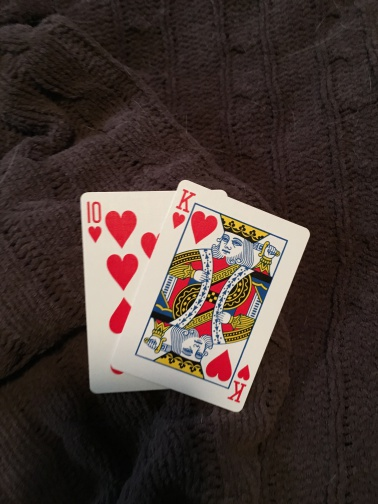king: (118, 180, 311, 415)
ten: (74, 190, 172, 394)
